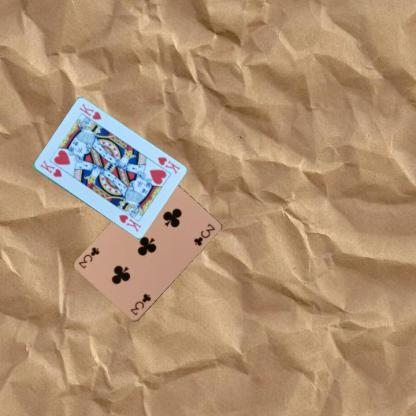3c: (128, 291, 152, 317)
Kh: (154, 154, 181, 176), (38, 158, 63, 178)
